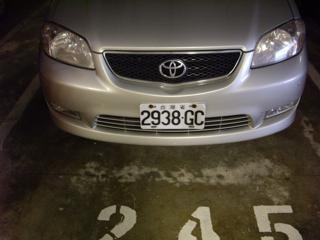plate: (136, 102, 208, 133)
